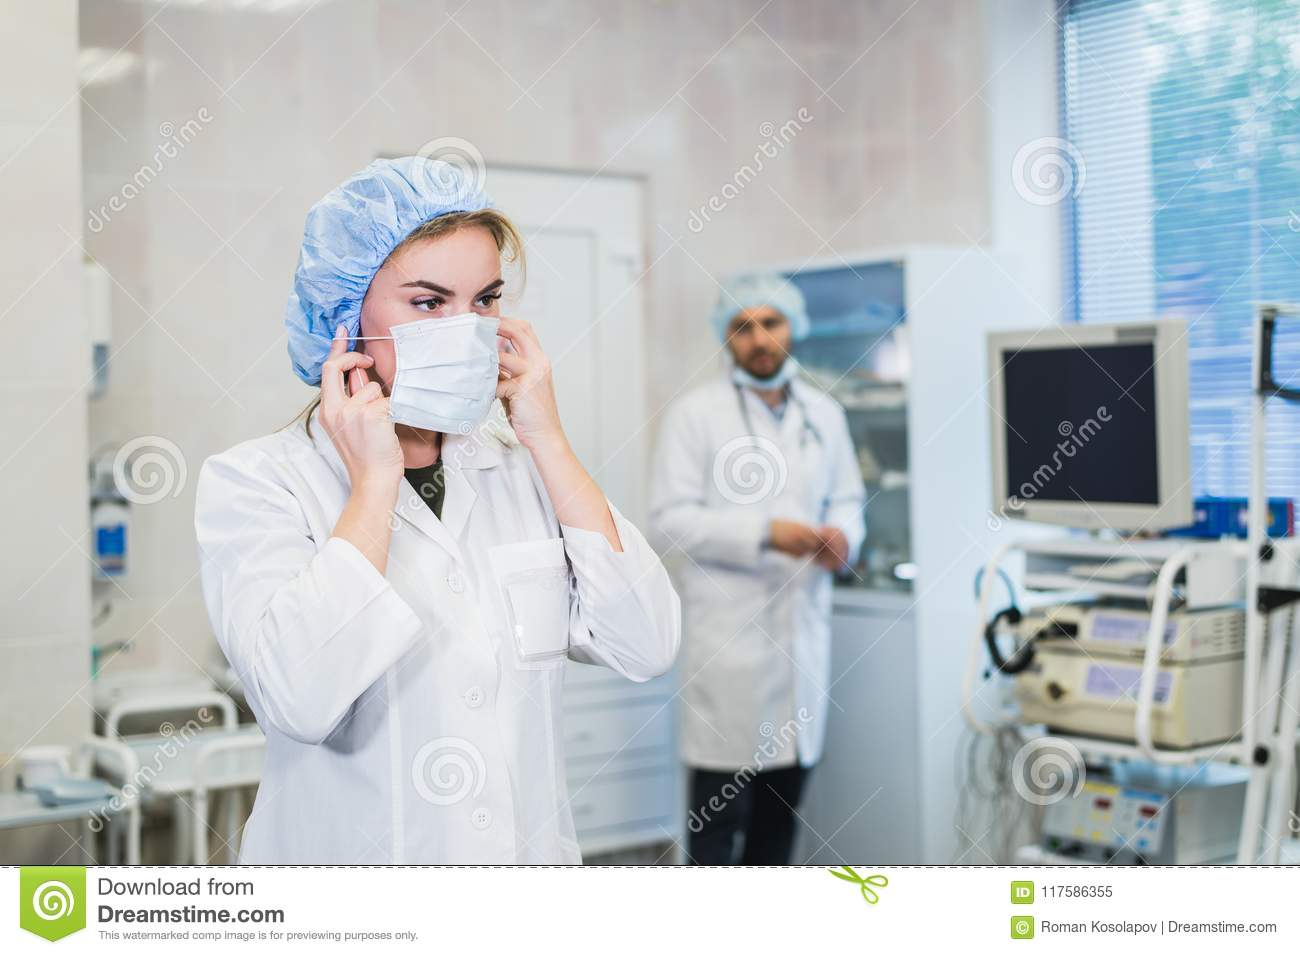mask: (378, 325, 498, 432)
